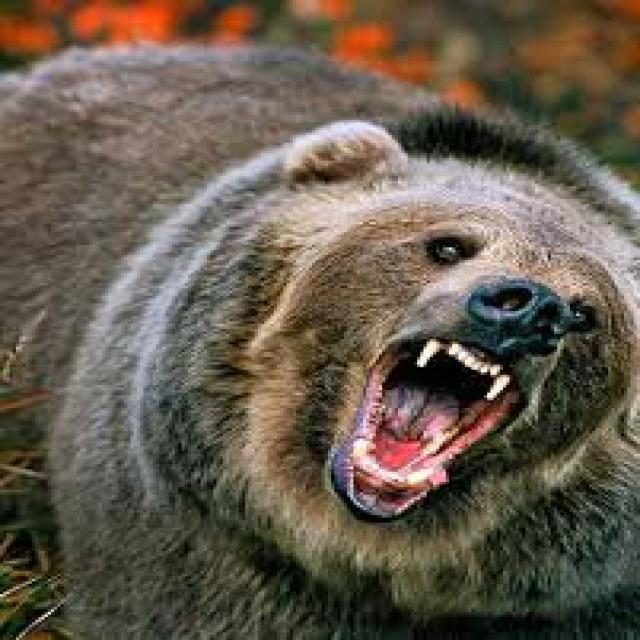bear: (0, 46, 637, 637)
